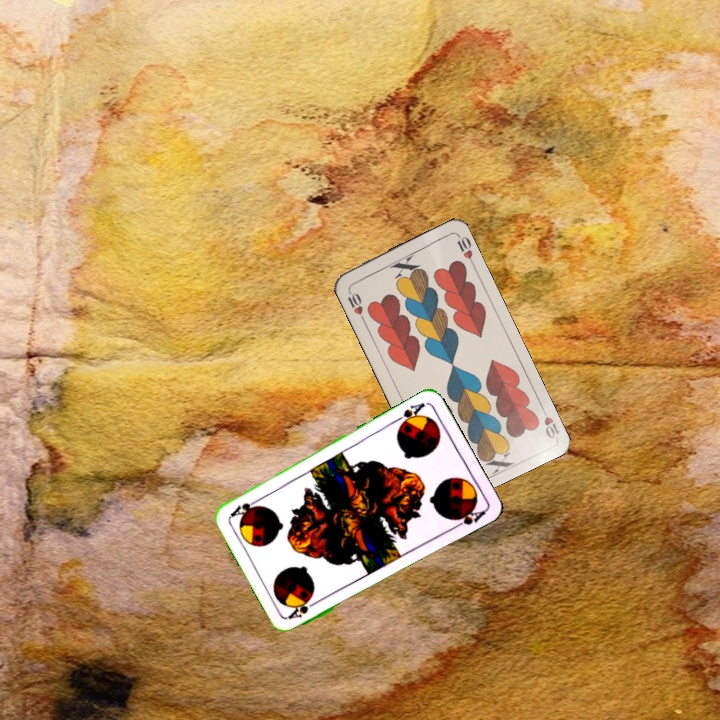H10: (537, 402, 562, 441), (343, 285, 367, 324)
SA: (391, 398, 428, 430), (284, 596, 322, 621)
